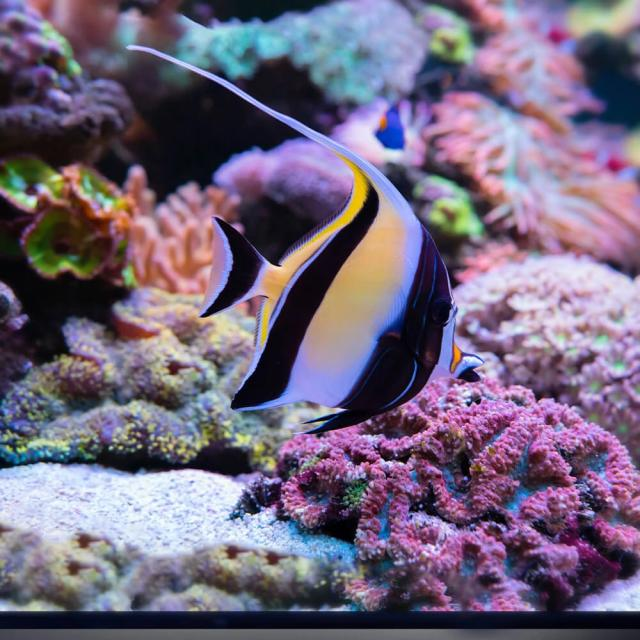MorishIdol: (124, 41, 486, 438)
